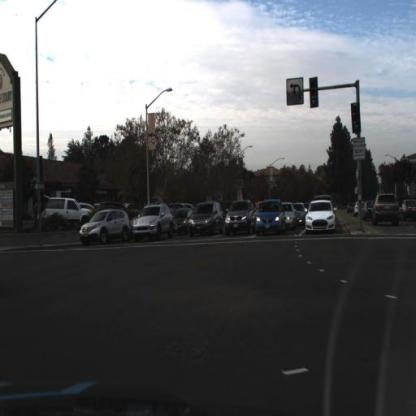car: (76, 209, 133, 247), (131, 202, 174, 244), (45, 196, 93, 223), (255, 201, 288, 239), (305, 201, 339, 233), (190, 204, 224, 235), (226, 202, 255, 236), (226, 201, 255, 234), (372, 194, 400, 226), (173, 205, 192, 236), (314, 192, 336, 217), (293, 198, 309, 232), (282, 202, 295, 229), (363, 202, 377, 220)
trafficLight-GreenLeft: (311, 76, 320, 108), (354, 104, 362, 133)
